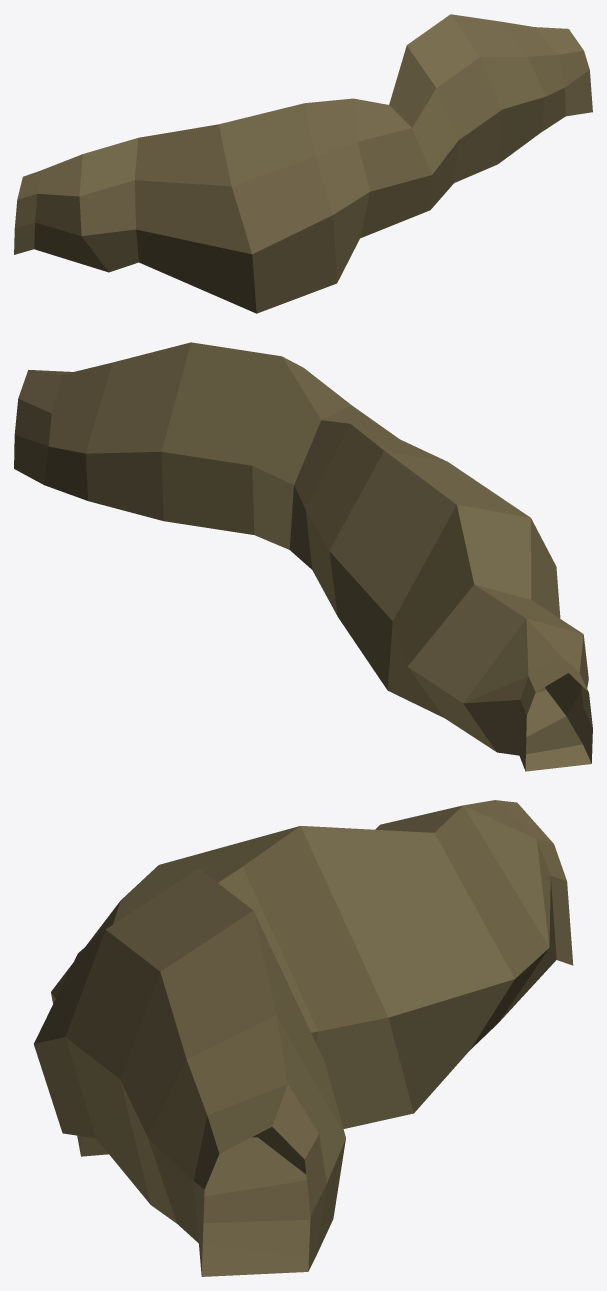
File: Tunnel-A02.fbx
3 renders of one model, top to bottom at view 1: azimuth 30°, elevation 25°; view 2: azimuth 150°, elevation 25°; view 3: azimuth 270°, elevation 25°, orthographic. The views are drawn at different scales.
Visible parts, largest first — view 1: Tunnel-A02; view 2: Tunnel-A02; view 3: Tunnel-A02.
Boxes of the visible parts, x1,y1,x2,y2 form: Tunnel-A02: (14, 14, 592, 313); Tunnel-A02: (14, 342, 592, 771); Tunnel-A02: (34, 800, 573, 1276).
Size of the model in its own units: 1838 by 851 by 758.
